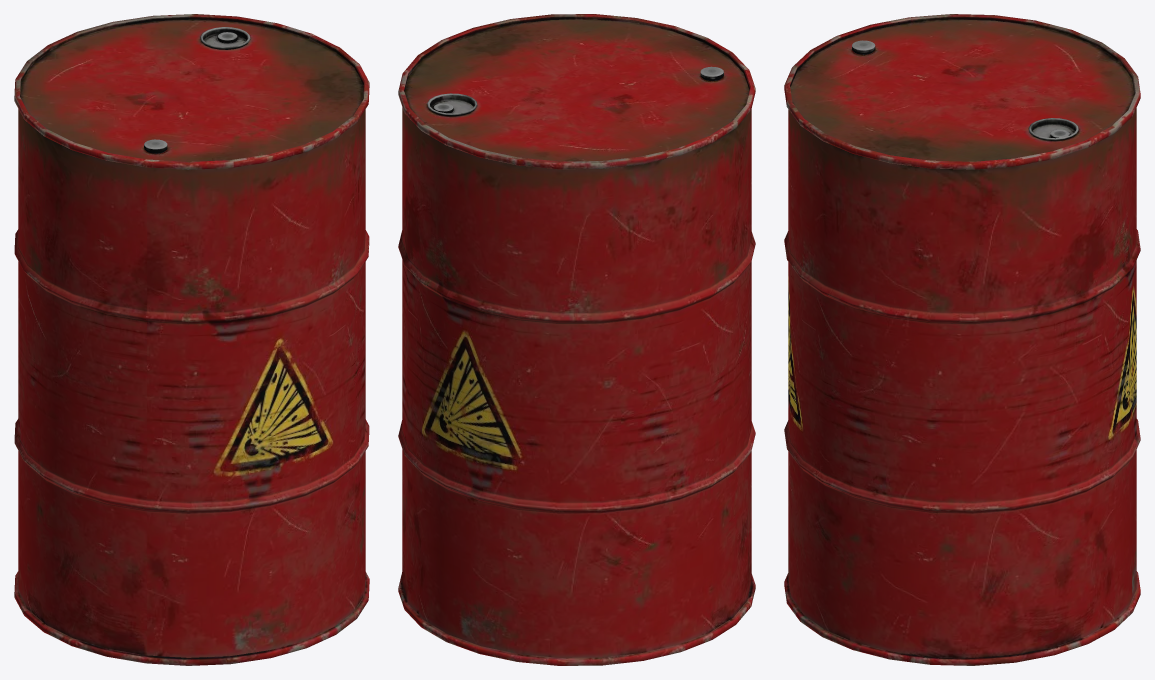
Rendered from Barrel_01.glb.
3 views of the same model, side by side, from view 1: azimuth 30°, elevation 25°; view 2: azimuth 150°, elevation 25°; view 3: azimuth 270°, elevation 25° (orthographic).
Parts seen in each view (by area): view 1: Barrel_01; view 2: Barrel_01; view 3: Barrel_01.
Boxes of the visible parts, left/top/right/bottom form: Barrel_01: left=14, top=14, right=369, bottom=665; Barrel_01: left=398, top=14, right=755, bottom=665; Barrel_01: left=784, top=14, right=1140, bottom=665.
Size of the model in its own units: 0.5631 by 0.88 by 0.5631.
Materials: 1 (1 with a texture image).
